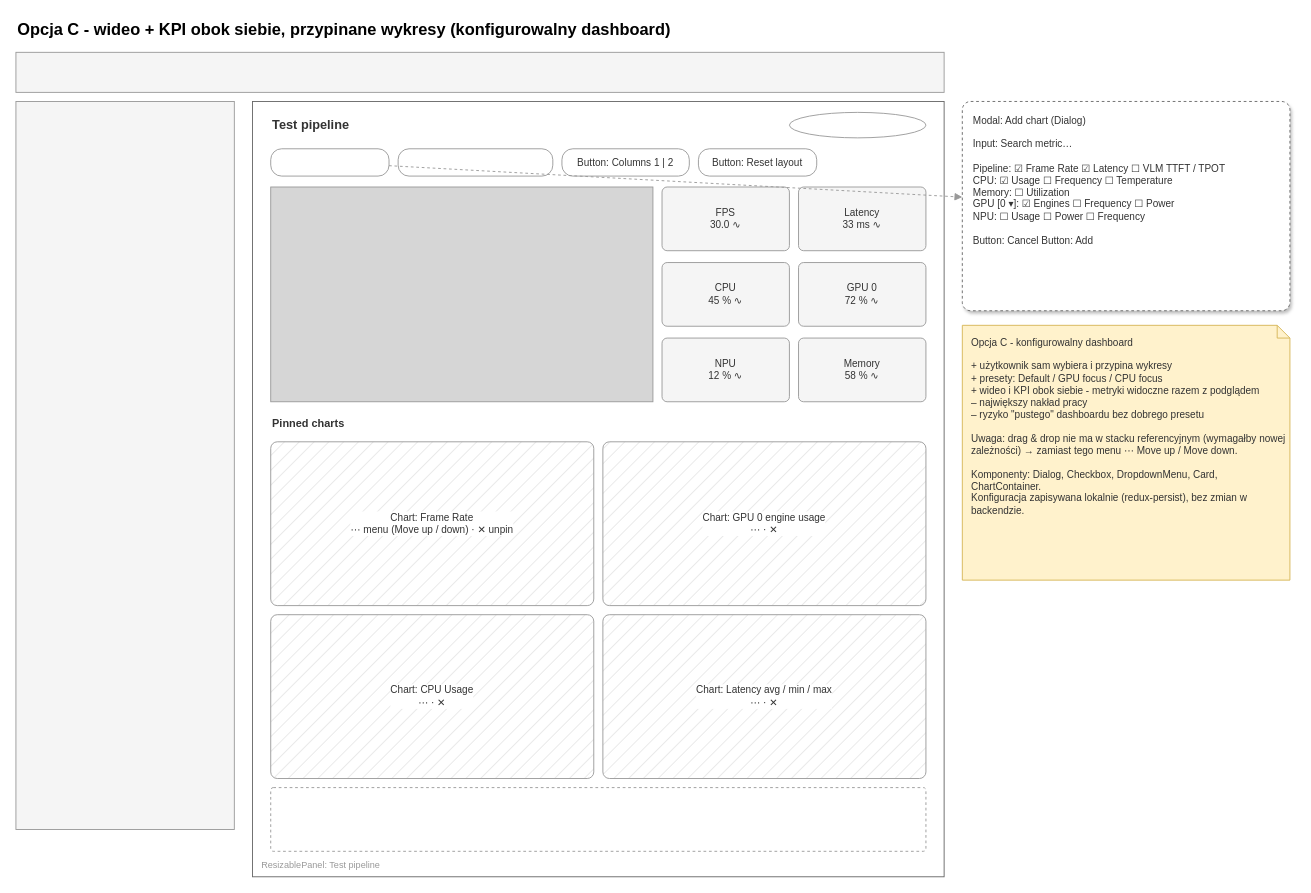
The diagram is 1311 pixels wide and 893 high, and some of its shapes have lost their labels. The shapes that lost their labels are listed below. From the top down, each one's centre as x and y in pixels, then its label:
At point 479,71: "Header: Pipeline name · variant · Run settings · Run / Stop · ⋯ menu".
At point 857,124: "Status: ● Running · 00:42".
At point 329,162: "Button: + Add chart".
At point 475,162: "Button: Preset: Default ▾".
At point 461,294: "Live: Live Preview (16:9) Tabs: Preview | Metadata JSON".
At point 124,465: "Pipeline editor canvas (ResizablePanel)".
At point 598,819: "+ Add chart (otwiera wybór metryk)".
